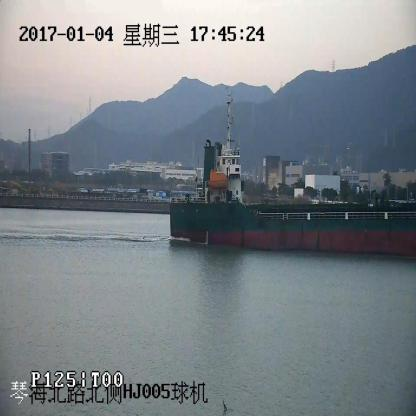Bulk Carrier: (170, 90, 416, 255)
